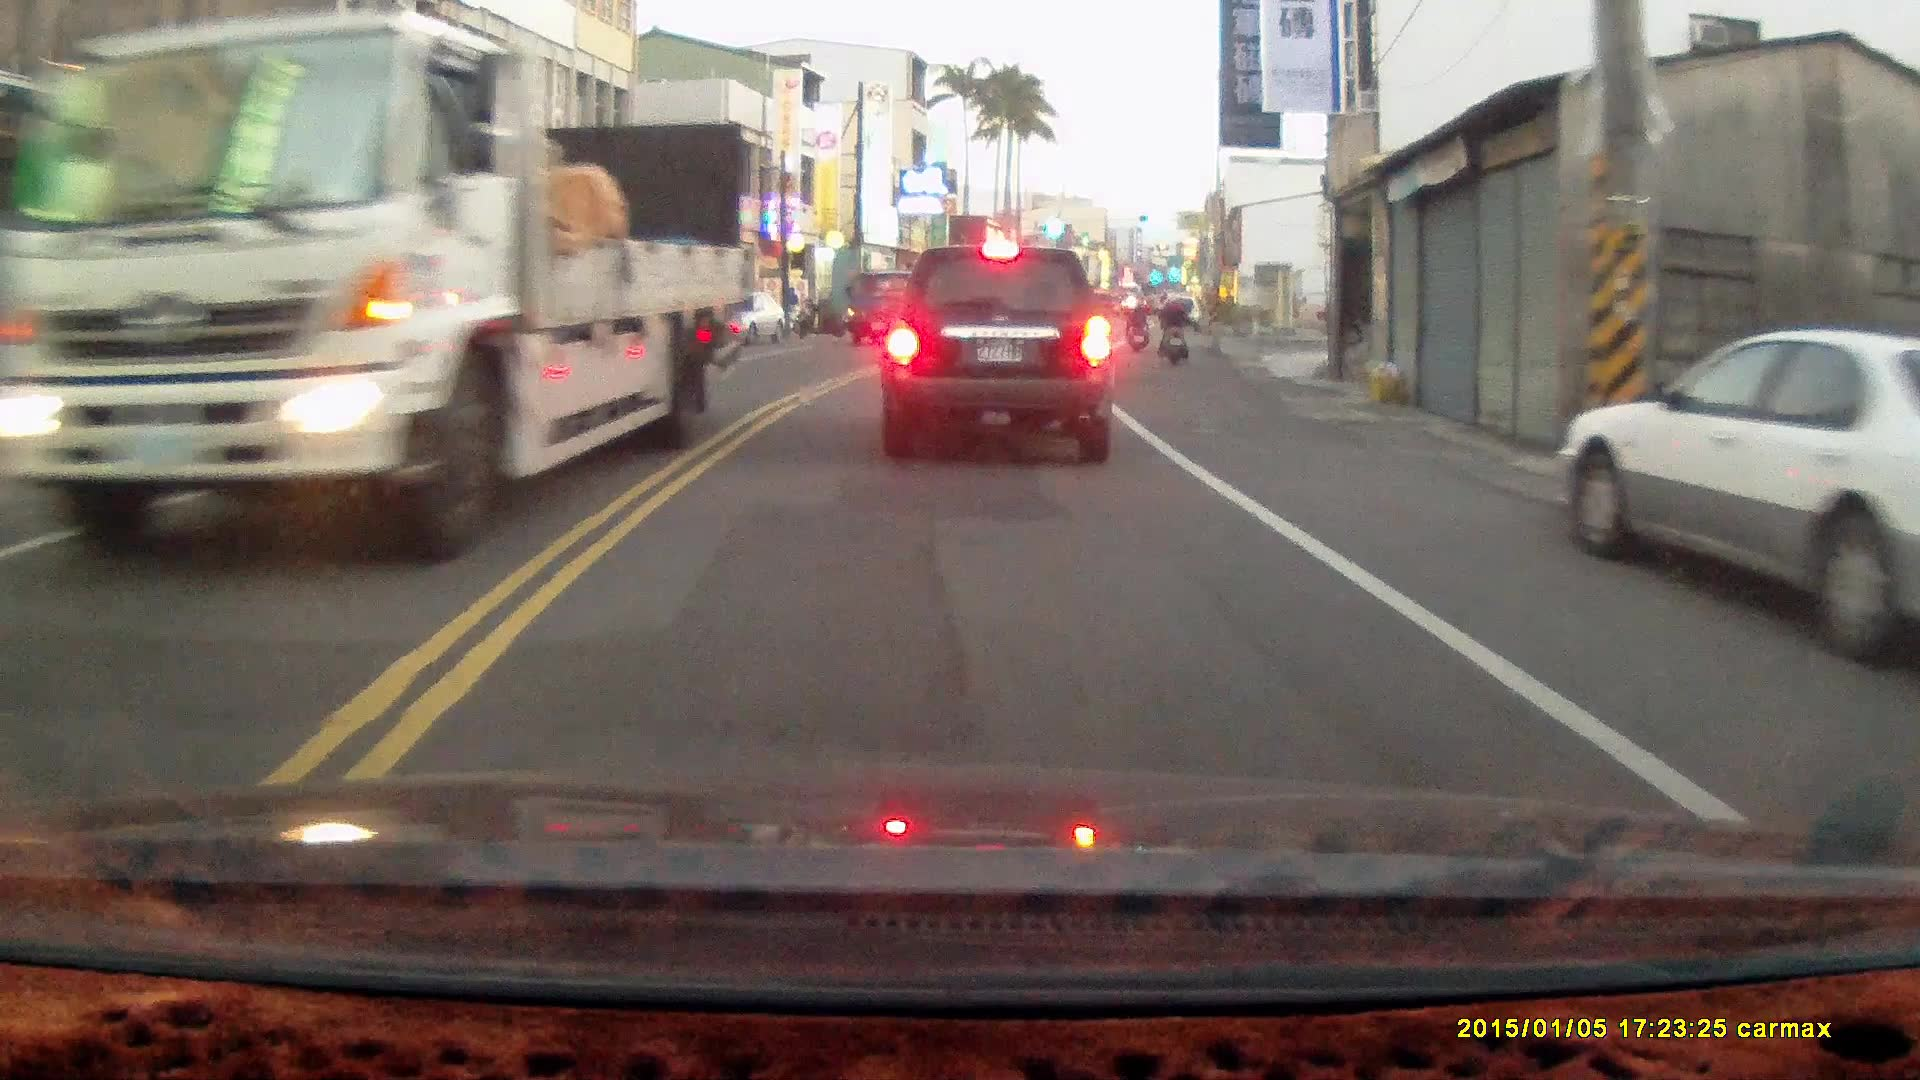rider: (1156, 287, 1187, 366), (1123, 297, 1148, 354)
vehicle: (6, 33, 752, 565), (1552, 327, 1920, 669), (878, 240, 1119, 464), (843, 268, 944, 348), (712, 289, 791, 347)
